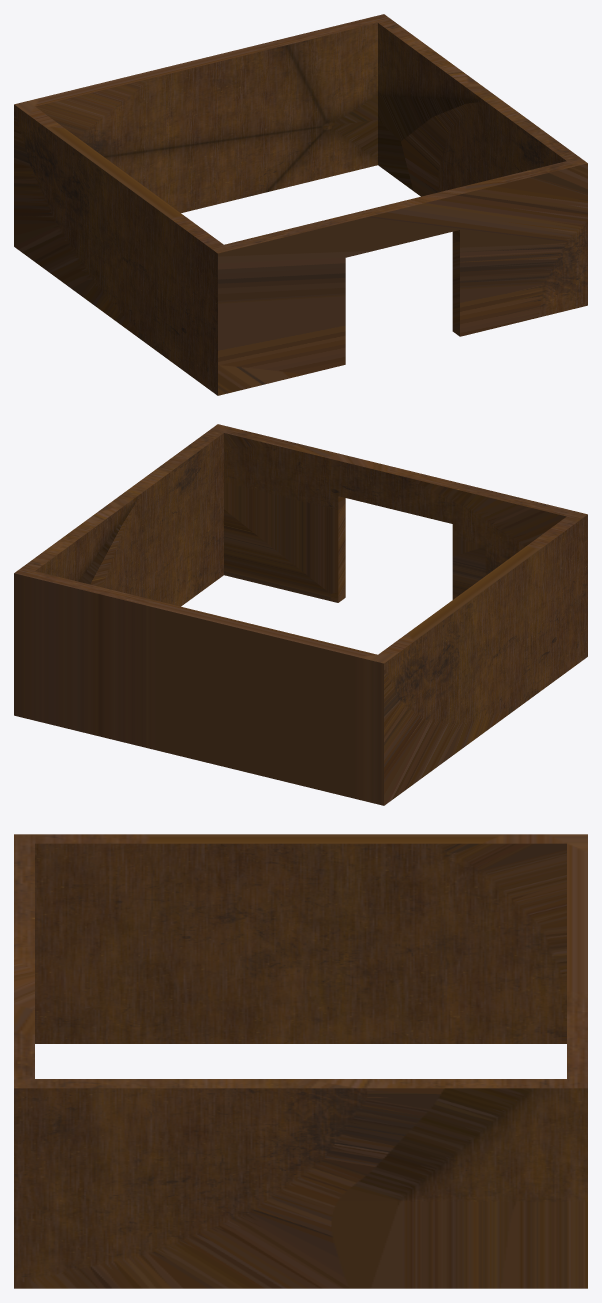
Rendered from Walls.FBX.
3 views of the same model, one above another, from view 1: azimuth 30°, elevation 25°; view 2: azimuth 150°, elevation 25°; view 3: azimuth 270°, elevation 25° (orthographic). The views are drawn at different scales.
Parts seen in each view (by area): view 1: SBH_Walls; view 2: SBH_Walls; view 3: SBH_Walls.
Boxes of the visible parts, bbox=[...] form: SBH_Walls: bbox=[14, 14, 587, 395]; SBH_Walls: bbox=[14, 424, 587, 805]; SBH_Walls: bbox=[14, 834, 587, 1288].
Bounding box in the file's own units: 9.05 × 3.33 × 8.64.
